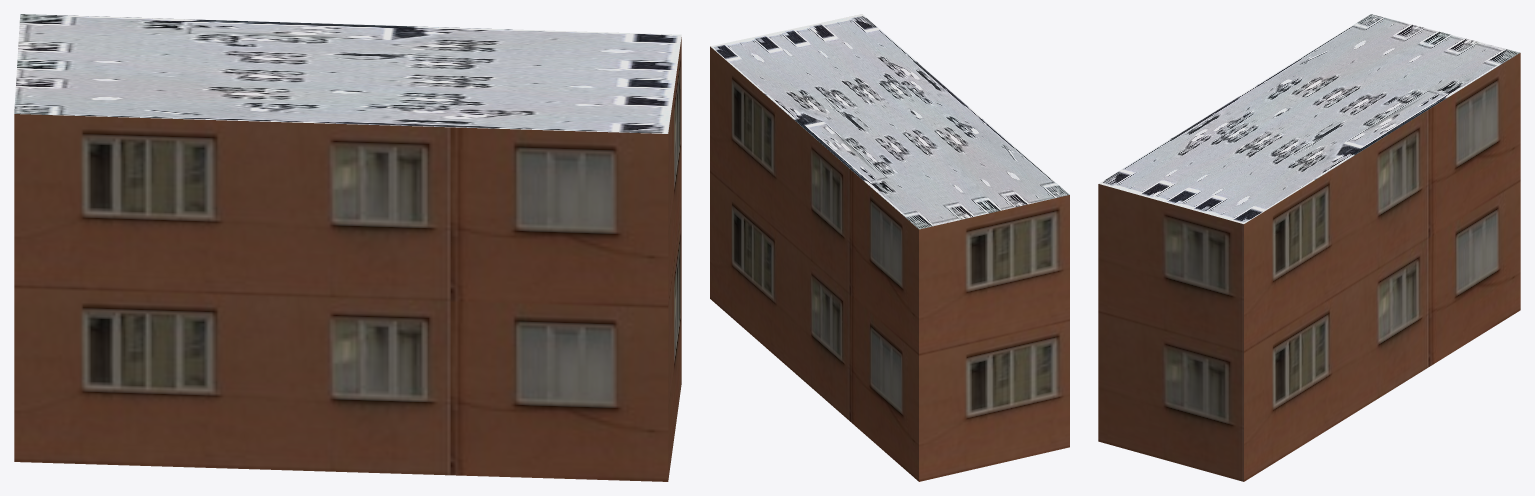
Rendered from ResTex__2469.fbx.
3 views of the same model, side by side, from view 1: azimuth 30°, elevation 25°; view 2: azimuth 150°, elevation 25°; view 3: azimuth 270°, elevation 25° (orthographic). The views are drawn at different scales.
Visible parts, largest first — view 1: CityEngineMaterial_20_m, CityEngineMaterial_4_m; view 2: CityEngineMaterial_20_m, CityEngineMaterial_4_m; view 3: CityEngineMaterial_20_m, CityEngineMaterial_4_m.
Boxes of the visible parts, <box> form: CityEngineMaterial_20_m: <box>14,37,681,481</box>; CityEngineMaterial_4_m: <box>14,14,681,133</box>; CityEngineMaterial_20_m: <box>710,46,1069,481</box>; CityEngineMaterial_4_m: <box>710,14,1069,229</box>; CityEngineMaterial_20_m: <box>1098,53,1520,481</box>; CityEngineMaterial_4_m: <box>1099,14,1519,223</box>.
Size of the model in its own units: 10.5 by 6 by 8.91.
2 materials, 2 textured.
